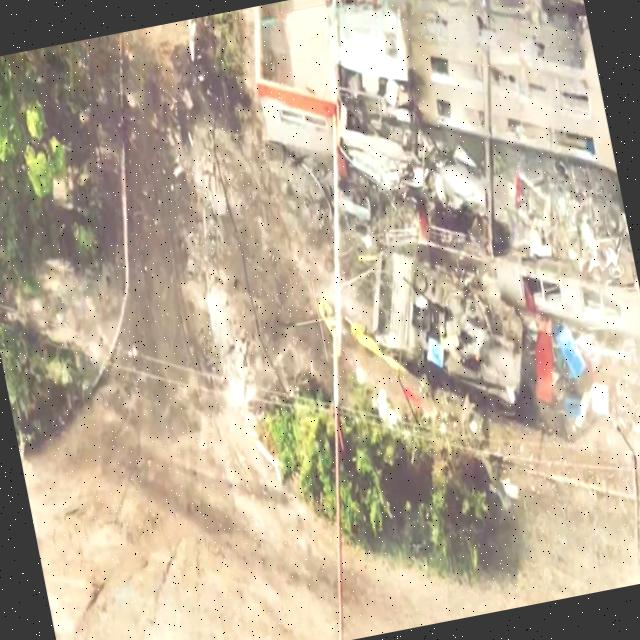AIFV: (356, 223, 538, 445)
